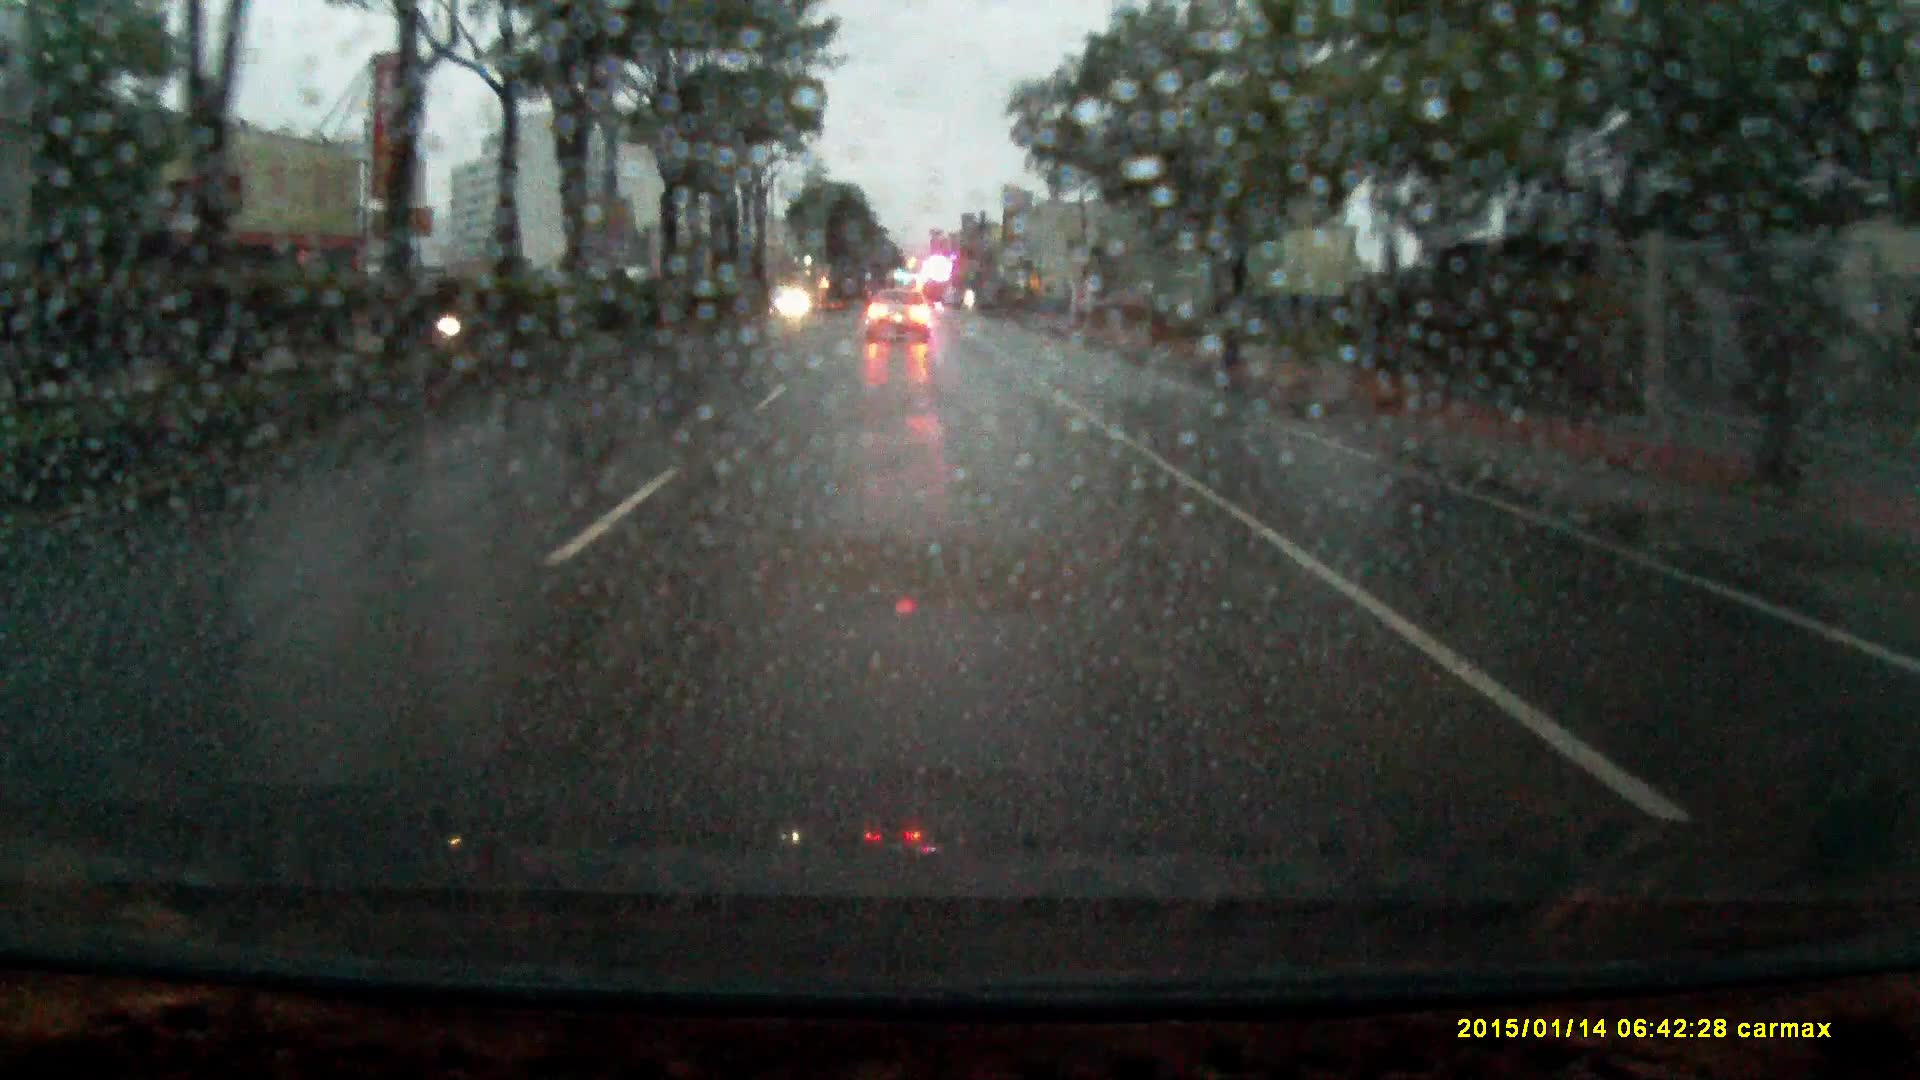vehicle: (865, 297, 934, 355)
